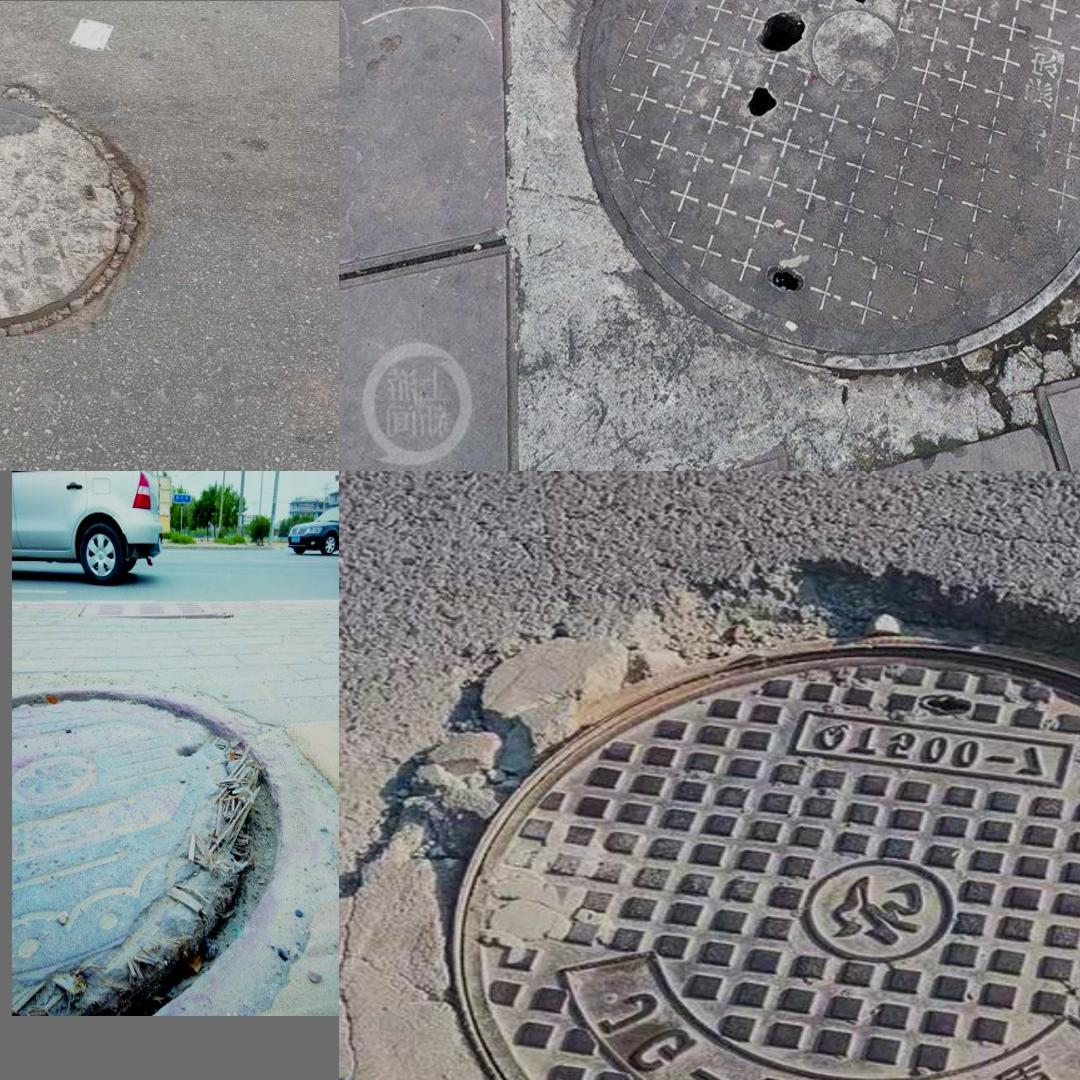circle: (374, 582, 1080, 1080), (481, 0, 1080, 453), (17, 673, 320, 1005), (0, 68, 164, 345)
